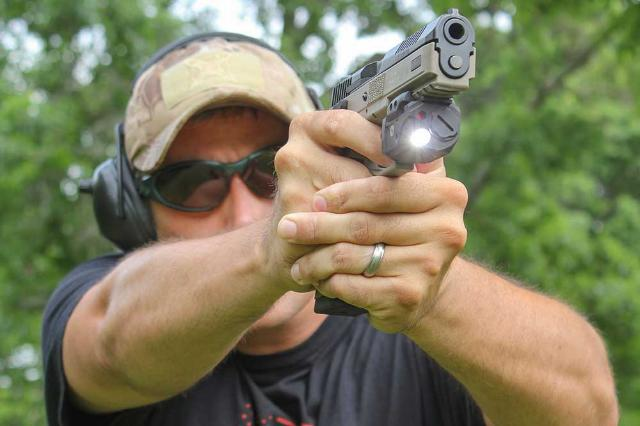handgun: (307, 4, 481, 322)
